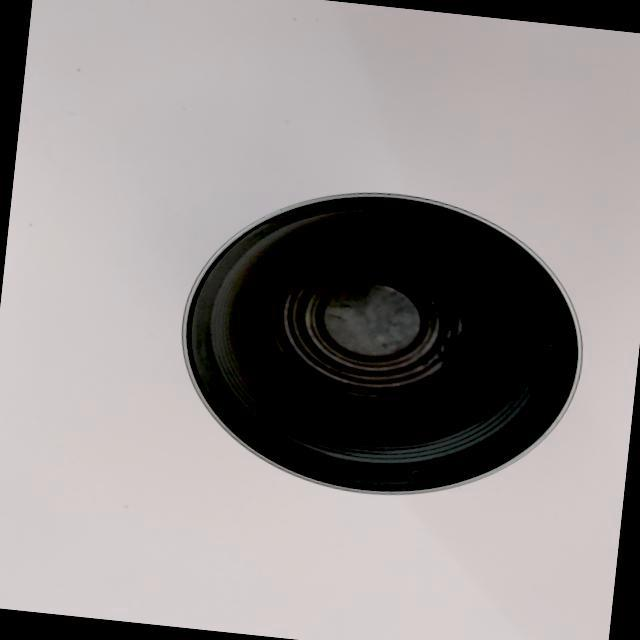metal: (154, 164, 610, 525)
